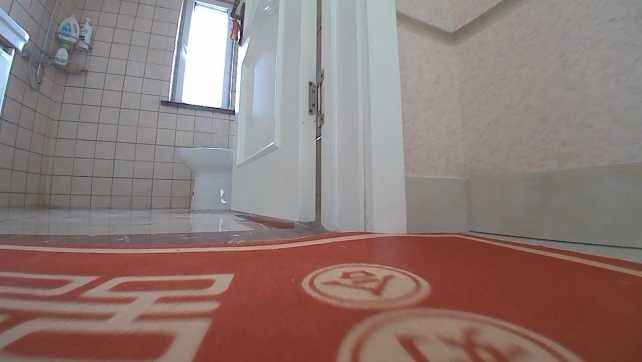blanket: (0, 227, 641, 361)
door_anno: (227, 0, 322, 221)
toilet: (176, 145, 233, 211)
